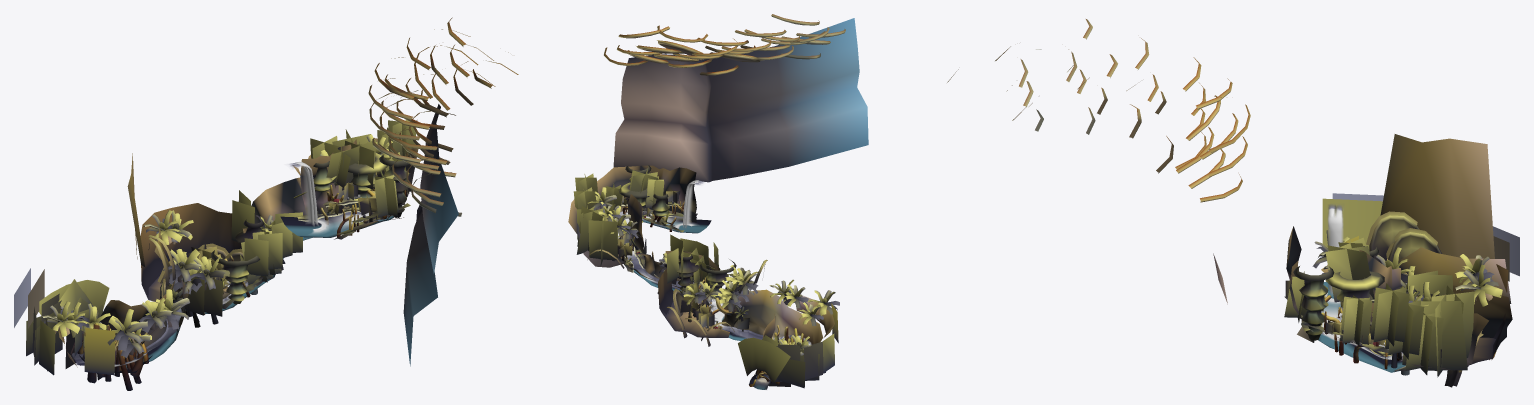
File: 02River.gltf
The picture shows the model from 3 angles, left to right: view 1: azimuth 30°, elevation 25°; view 2: azimuth 150°, elevation 25°; view 3: azimuth 270°, elevation 25°; orthographic projection. The views are drawn at different scales.
Parts seen in each view (by area): view 1: stg020_p02_Mesh_21, stg020_o02_Mesh_5, stg020_o02_Mesh_6, stg020_o01_Mesh_15.001, stg020_o02_Mesh_0, stg020_o02_Mesh_3, stg020_p07_Mesh_2, stg020_river_w_10_Mesh_9, stg020_p02_Mesh_7, stg020_o02_Mesh_7, stg020_river_w_10_Mesh_13, stg020_p09_Mesh_14; view 2: stg020_o01_Mesh_15.001, stg020_p02_Mesh_21, stg020_o02_Mesh_5, stg020_o02_Mesh_6, stg020_o02_Mesh_0, stg020_river_w_10_Mesh_9, stg020_p02_Mesh_6, stg020_o02_Mesh_3, stg020_p02_Mesh_7, stg020_o02_Mesh_7, stg020_river_w_10_Mesh_13, stg020_p09_Mesh_14; view 3: stg020_o02_Mesh_5, stg020_p02_Mesh_21, stg020_o02_Mesh_6, stg020_p07_Mesh_2, stg020_o02_Mesh_0, stg020_river_w_10_Mesh_13, stg020_p09_Mesh_14, stg020_o02_Mesh_3.
Boxes of the visible parts, left/top/right/bottom form: stg020_p02_Mesh_21: left=26, top=120, right=415, bottom=375; stg020_o02_Mesh_5: left=58, top=138, right=418, bottom=372; stg020_o02_Mesh_6: left=148, top=17, right=518, bottom=321; stg020_o01_Mesh_15.001: left=403, top=104, right=458, bottom=366; stg020_o02_Mesh_0: left=211, top=152, right=413, bottom=304; stg020_o02_Mesh_3: left=70, top=185, right=406, bottom=390; stg020_p07_Mesh_2: left=14, top=268, right=44, bottom=328; stg020_river_w_10_Mesh_9: left=71, top=212, right=387, bottom=366; stg020_p02_Mesh_7: left=188, top=169, right=409, bottom=288; stg020_o02_Mesh_7: left=222, top=176, right=410, bottom=308; stg020_river_w_10_Mesh_13: left=289, top=162, right=318, bottom=226; stg020_p09_Mesh_14: left=157, top=201, right=405, bottom=296; stg020_o01_Mesh_15.001: left=613, top=18, right=868, bottom=182; stg020_p02_Mesh_21: left=573, top=169, right=839, bottom=388; stg020_o02_Mesh_5: left=568, top=165, right=834, bottom=389; stg020_o02_Mesh_6: left=587, top=14, right=845, bottom=346; stg020_o02_Mesh_0: left=618, top=164, right=736, bottom=299; stg020_river_w_10_Mesh_9: left=618, top=213, right=810, bottom=378; stg020_p02_Mesh_6: left=617, top=190, right=749, bottom=331; stg020_o02_Mesh_3: left=620, top=197, right=803, bottom=386; stg020_p02_Mesh_7: left=602, top=194, right=709, bottom=320; stg020_o02_Mesh_7: left=621, top=197, right=722, bottom=299; stg020_river_w_10_Mesh_13: left=683, top=180, right=724, bottom=318; stg020_p09_Mesh_14: left=615, top=19, right=824, bottom=313; stg020_o02_Mesh_5: left=1286, top=134, right=1512, bottom=372; stg020_p02_Mesh_21: left=1284, top=229, right=1502, bottom=377; stg020_o02_Mesh_6: left=947, top=19, right=1483, bottom=387; stg020_p07_Mesh_2: left=1322, top=193, right=1519, bottom=281; stg020_o02_Mesh_0: left=1293, top=247, right=1416, bottom=375; stg020_river_w_10_Mesh_13: left=1327, top=204, right=1343, bottom=295; stg020_p09_Mesh_14: left=1310, top=211, right=1461, bottom=372; stg020_o02_Mesh_3: left=1321, top=295, right=1496, bottom=369.
Bounding box in the file's own units: 412 × 328 × 452.
